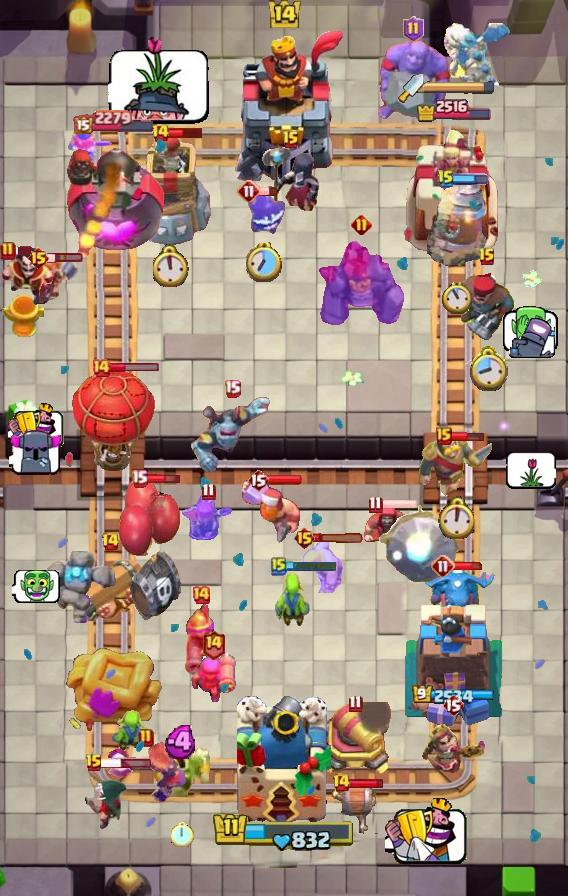archer-evolution: (179, 492, 237, 550)
bandit: (83, 768, 129, 832)
bar: (285, 560, 338, 572), (100, 758, 152, 769), (313, 533, 365, 544), (109, 362, 160, 373), (167, 126, 204, 139), (146, 472, 181, 485), (381, 498, 418, 510), (47, 252, 84, 264), (267, 474, 303, 486), (453, 173, 489, 185), (348, 778, 385, 789), (449, 431, 485, 442), (453, 561, 485, 571), (14, 245, 34, 256), (259, 186, 278, 197)
bar-level: (201, 629, 226, 660), (431, 554, 455, 578), (237, 179, 261, 203), (293, 526, 316, 550), (27, 246, 50, 270), (403, 16, 424, 42), (442, 693, 464, 717), (247, 468, 269, 492), (351, 214, 372, 235), (191, 585, 211, 605), (91, 358, 111, 378), (332, 773, 351, 793), (101, 532, 120, 552), (151, 123, 170, 143), (85, 753, 103, 773), (478, 247, 496, 267), (437, 169, 455, 189), (282, 130, 300, 150), (131, 469, 148, 488), (224, 379, 241, 398), (138, 728, 154, 748), (271, 556, 287, 576), (0, 241, 16, 261), (436, 427, 452, 445), (348, 694, 363, 713), (368, 495, 383, 514), (201, 482, 216, 501)
barbarian: (300, 538, 344, 593)
cannoneer-tower: (64, 138, 165, 256)
clock: (467, 344, 508, 391), (437, 496, 474, 539), (153, 244, 190, 287), (246, 242, 282, 282), (442, 281, 472, 314), (171, 821, 194, 847)
dagger-duchess-tower: (403, 124, 503, 256)
dagger-duchess-tower-bar: (424, 80, 496, 94)
electro-dragon: (425, 563, 497, 625)
electro-spirit: (242, 190, 286, 238)
electro-wizard: (0, 248, 56, 308)
elixir: (164, 725, 200, 759)
emote: (108, 33, 212, 126), (385, 797, 468, 864), (501, 306, 561, 354), (9, 429, 63, 477), (8, 403, 64, 448), (507, 318, 555, 360), (506, 451, 556, 489), (12, 568, 61, 605)
firecracker: (189, 652, 237, 702)
goblin: (273, 570, 311, 628), (110, 710, 154, 752)
goblin-brawler: (152, 747, 212, 797)
golemite: (44, 551, 120, 629)
hunter: (457, 272, 517, 344)
king-tower: (223, 31, 345, 181), (237, 696, 331, 826)
king-tower-bar: (212, 811, 356, 853)
knight: (418, 433, 492, 496)
little-prince: (419, 721, 488, 777)
lumberjack: (239, 476, 303, 546)
mega-minion: (190, 394, 274, 472)
musketeer: (181, 600, 221, 676)
night-witch: (261, 143, 321, 215)
queen-tower: (401, 599, 506, 731)
tower-bar: (73, 109, 156, 134), (415, 97, 492, 123), (412, 685, 495, 706)
valkyrie: (66, 129, 114, 183), (31, 256, 79, 306)
valkyrie-evolution: (105, 740, 188, 804)
wall-breaker: (331, 780, 379, 834)
wizard: (362, 503, 412, 553)
